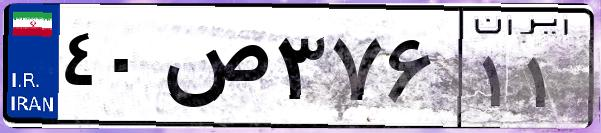0: (110, 28, 158, 98)
1: (475, 38, 525, 113), (525, 38, 570, 115)
3: (270, 28, 330, 110)
4: (57, 26, 110, 100)
6: (385, 28, 445, 110)
7: (330, 28, 385, 110)
ص: (158, 20, 270, 120)
